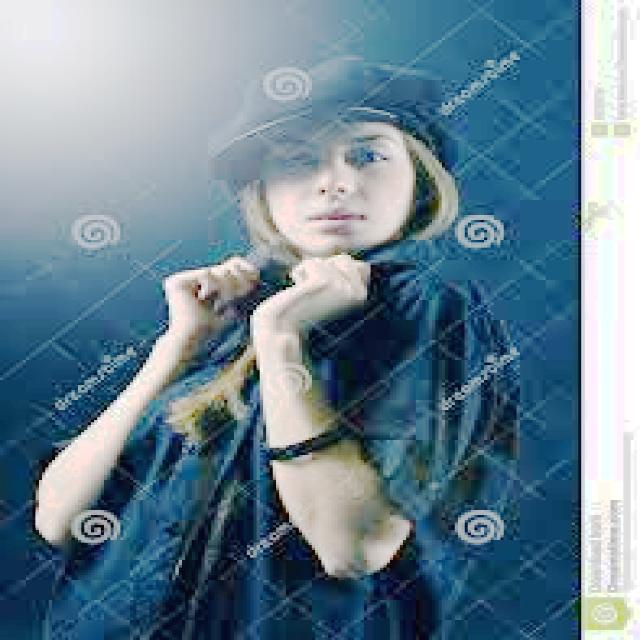TOPI: (184, 44, 474, 170)
